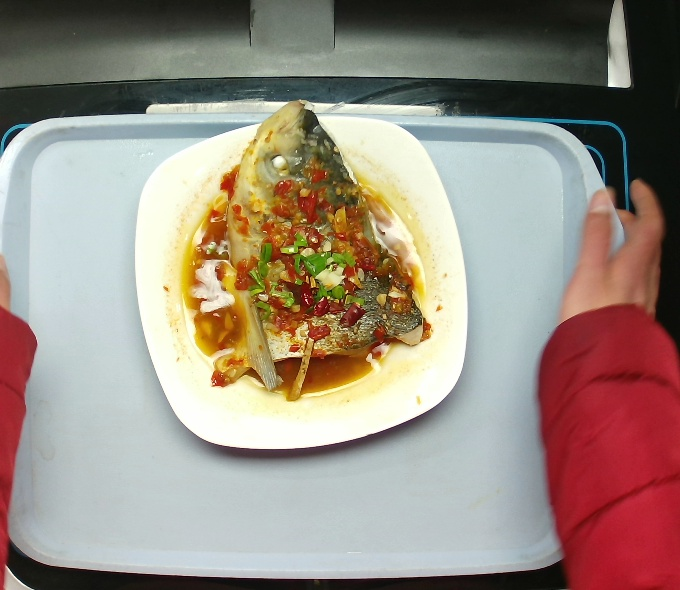wcq-DuoJiaoYuTou: (174, 98, 434, 405)
